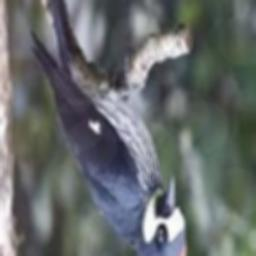Woodpecker: (30, 0, 185, 256)
